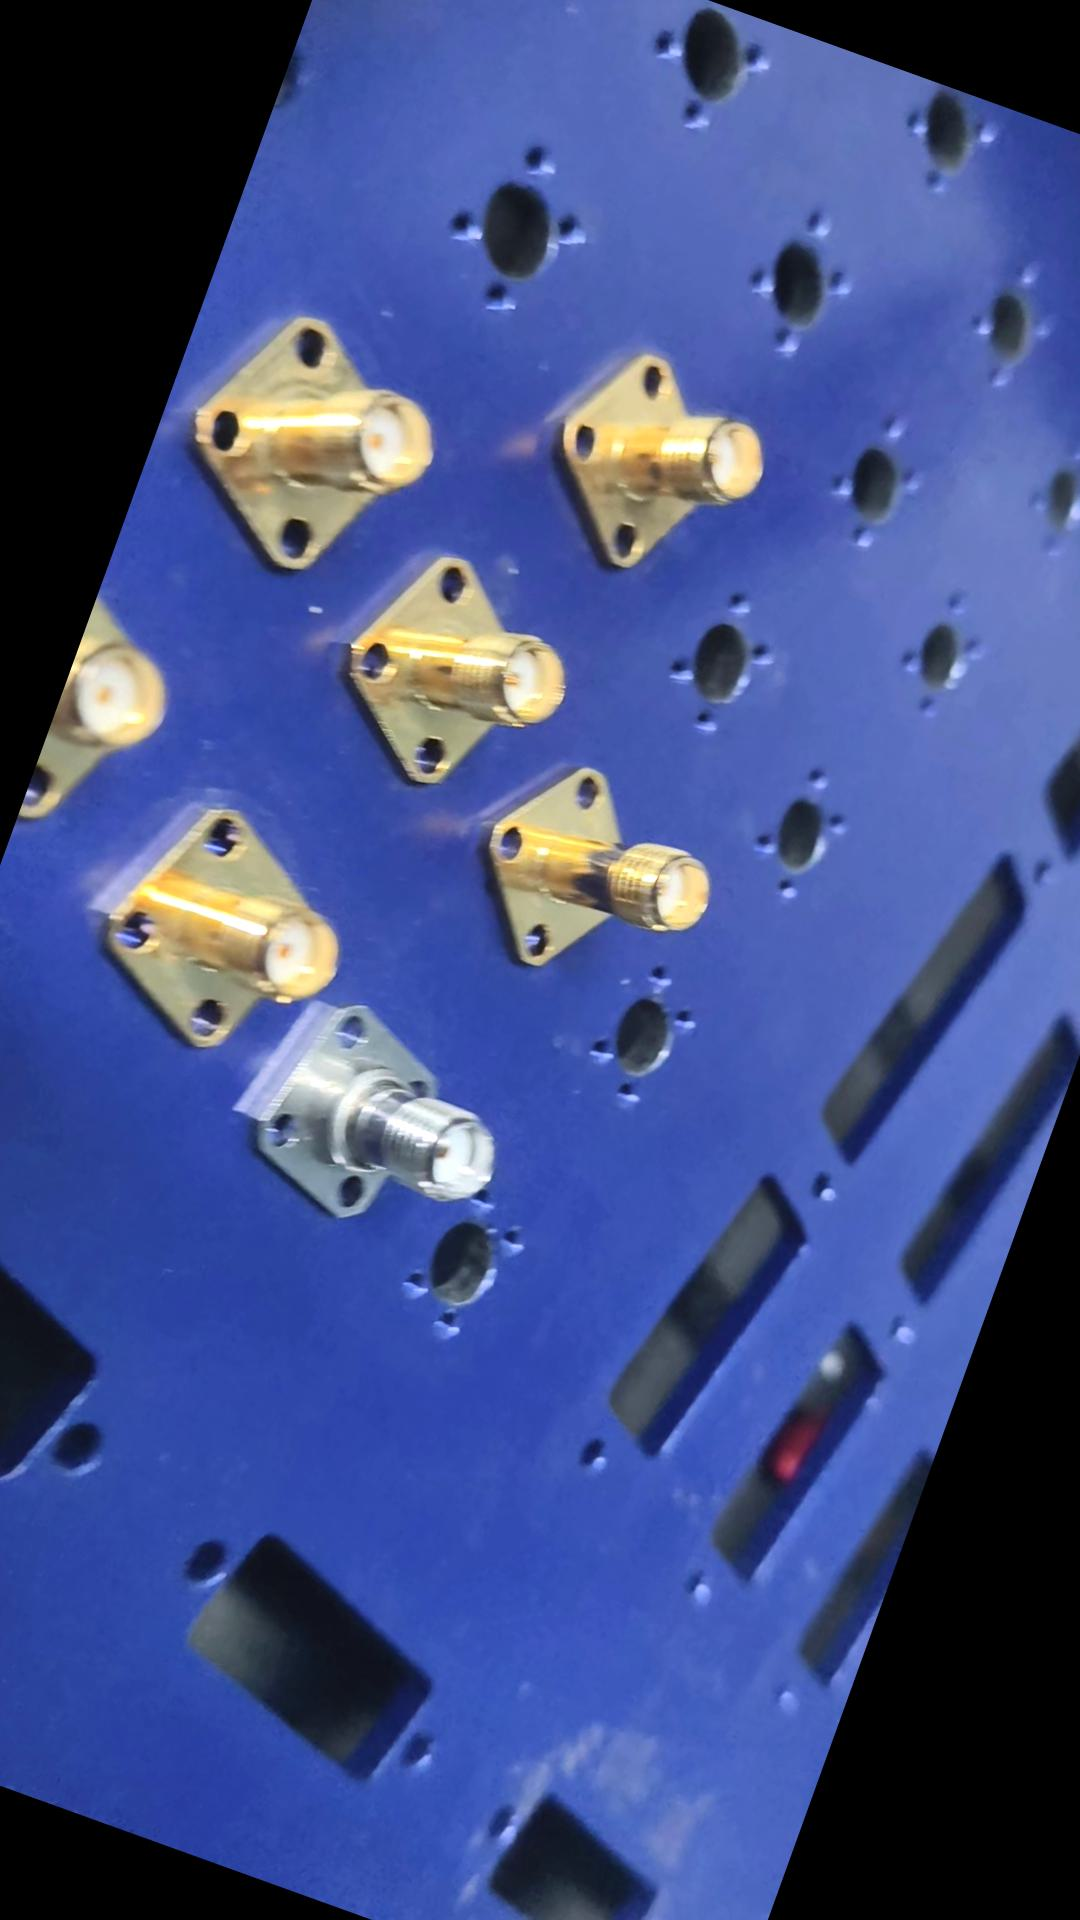SMA: (161, 287, 476, 611), (222, 955, 543, 1265), (80, 781, 385, 1102), (455, 711, 748, 1019), (521, 310, 800, 607), (318, 531, 597, 823)
